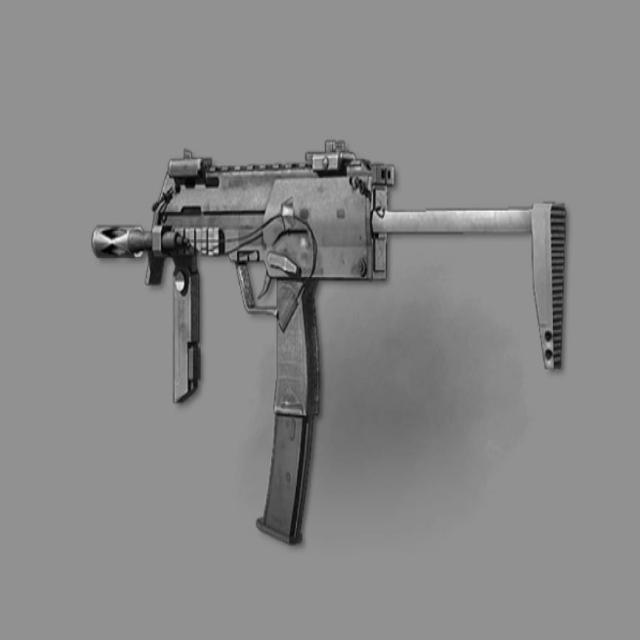Sub-machine-gun: (52, 114, 566, 558)
